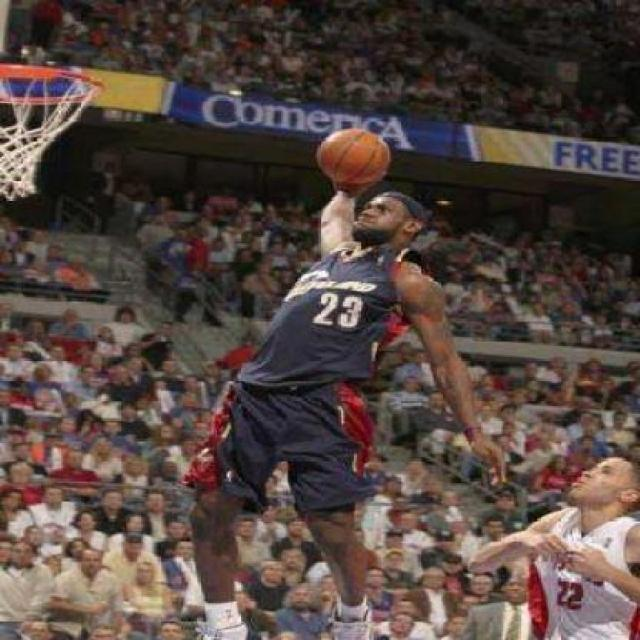basketball: (317, 128, 391, 188)
rim: (1, 64, 105, 200)
